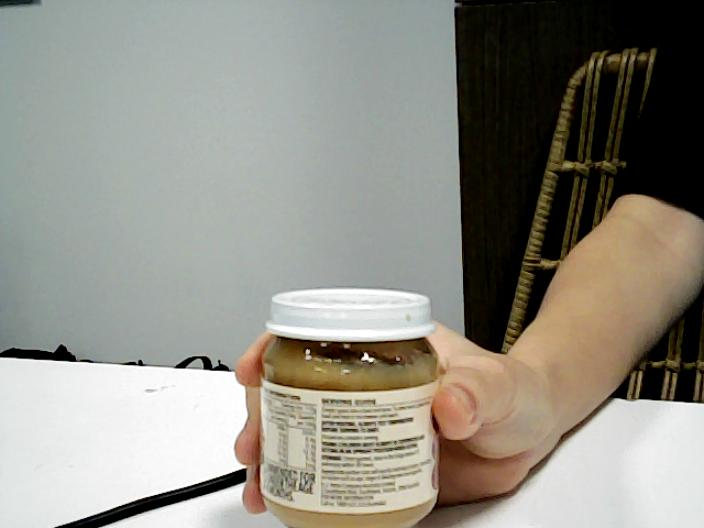Babyfood_100-199g_NonHalal_NonHealthy: (262, 298, 439, 528)
